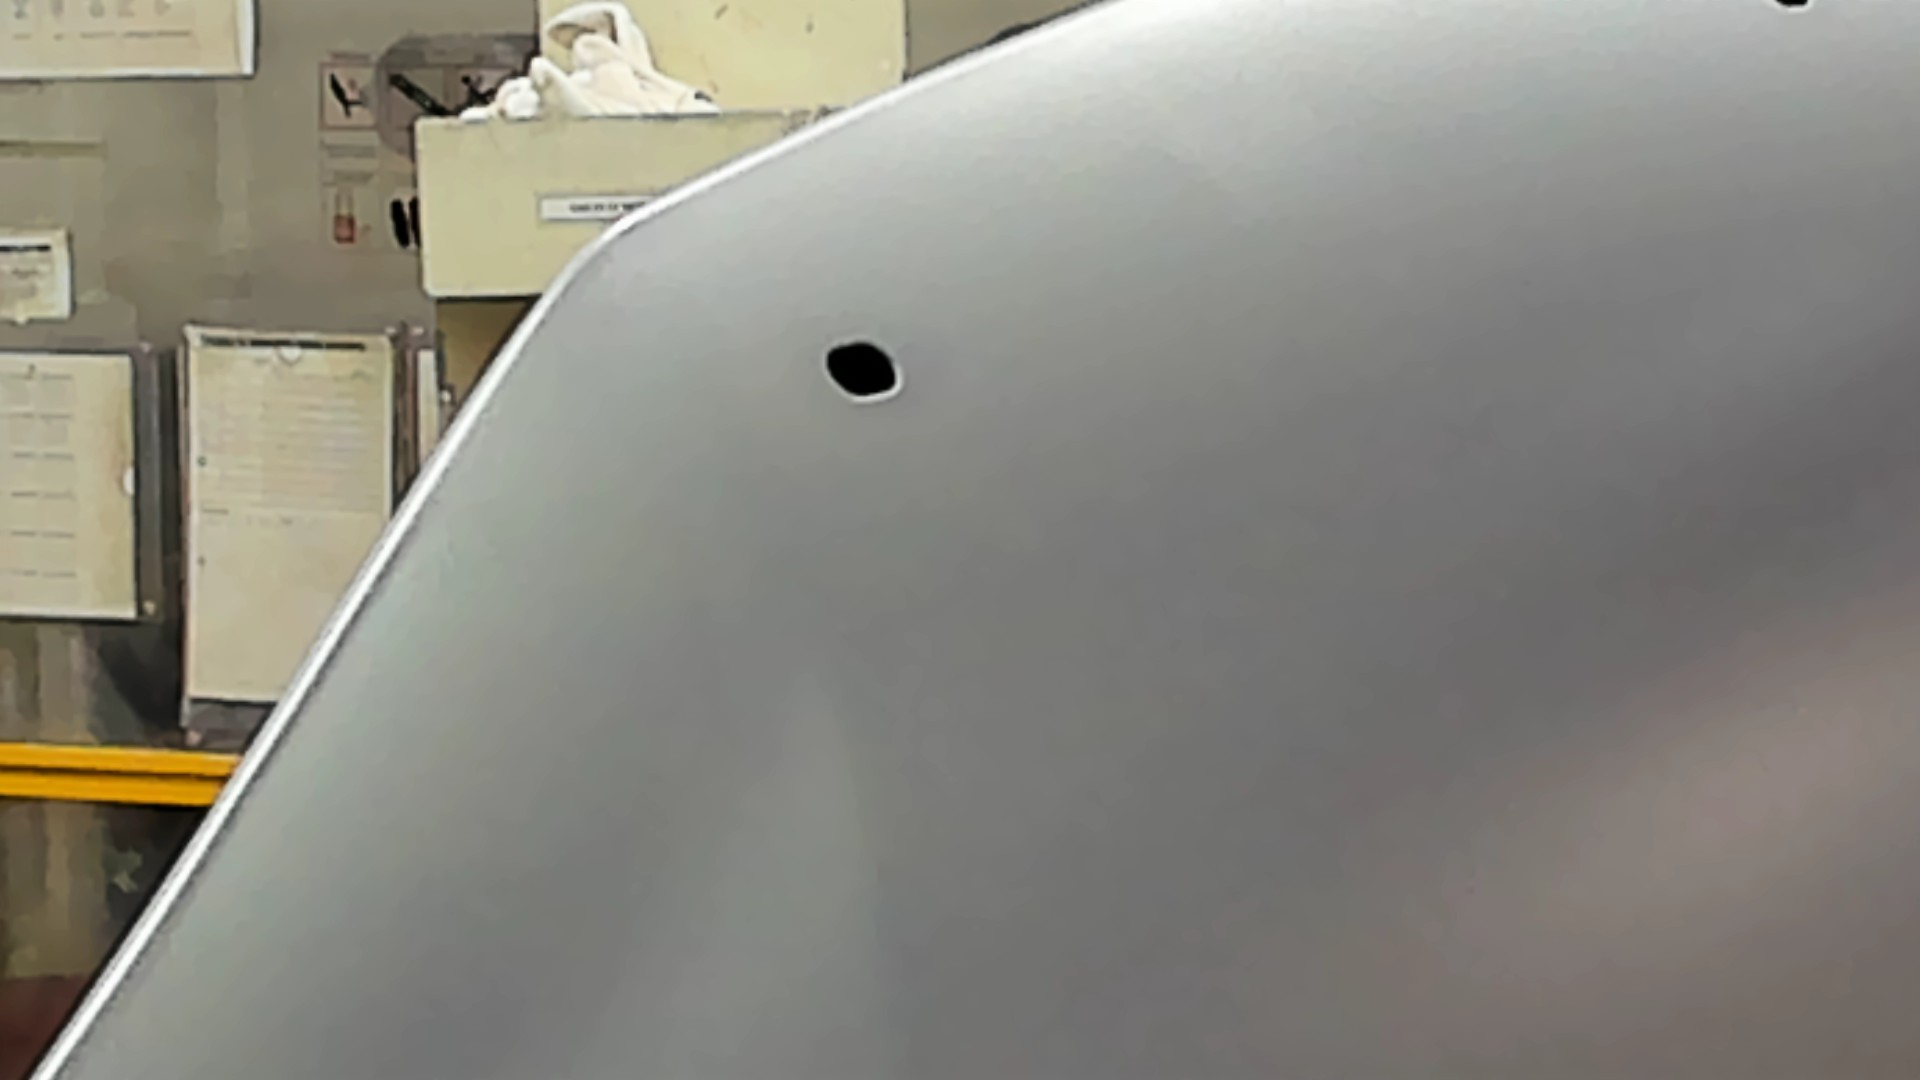amorfo: (815, 335, 910, 410), (1755, 1, 1822, 15)
